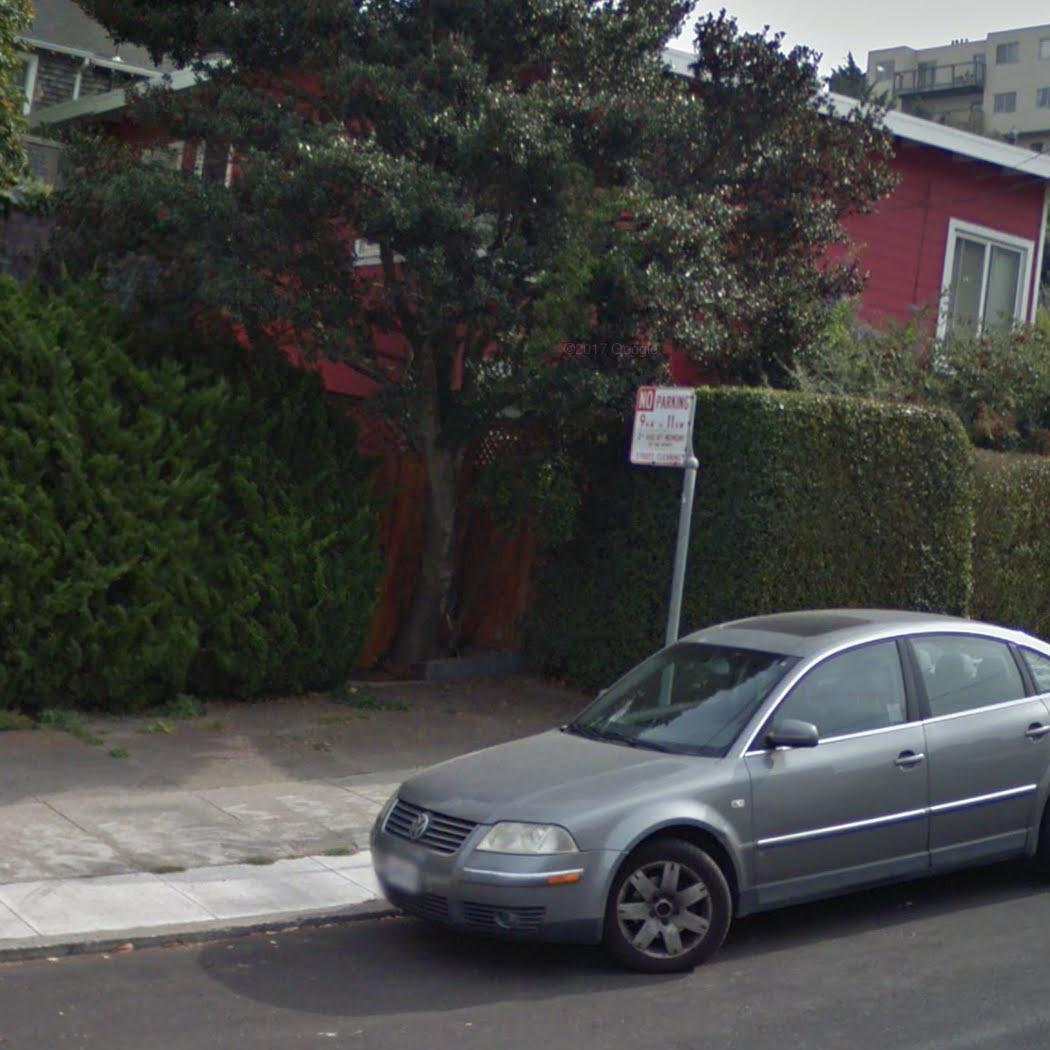No Parking: (626, 380, 700, 469)
